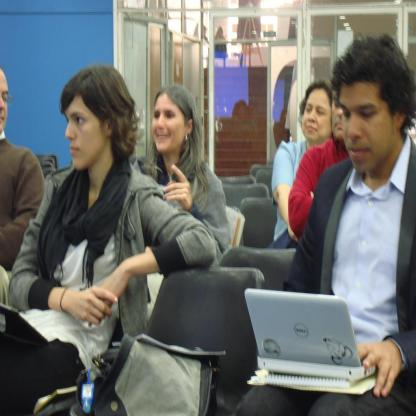board: (246, 283, 369, 400)
